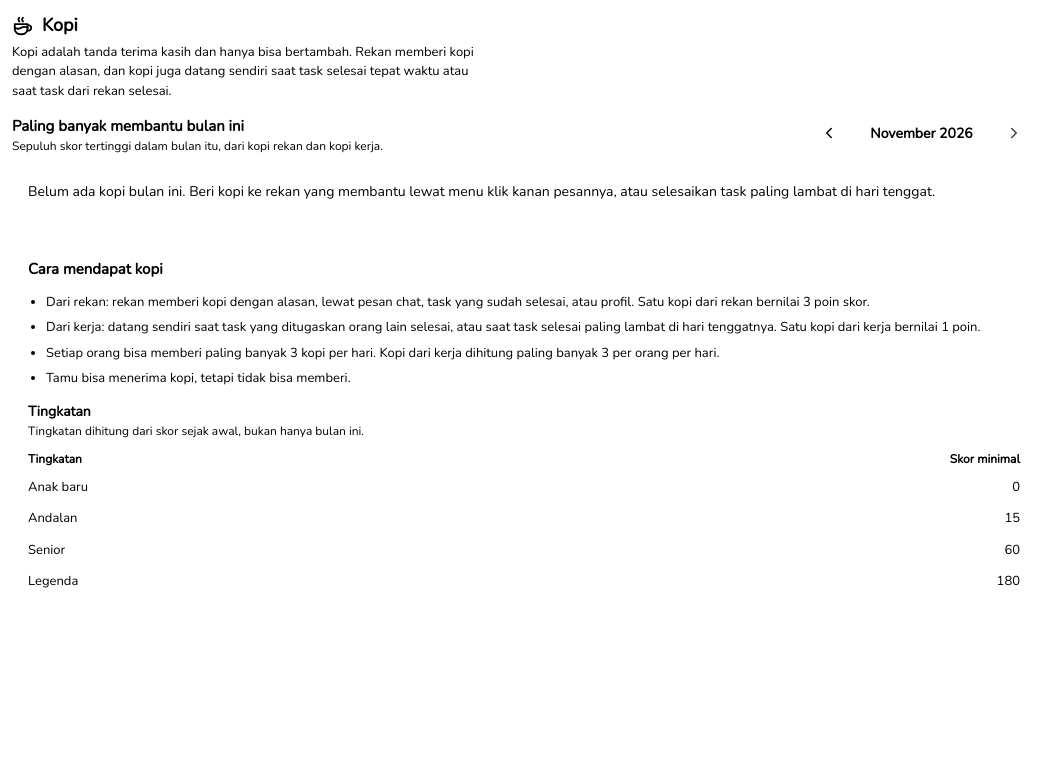
Test: Kopi: papan bulanan › kosong bulan lalu: menyebut bulannya
Check: the text "Belum ada kopi bulan ini." is shown, box [28,182,935,201]
Click the button named "Bulan sebelumnya" at (829, 133), box [807,111,851,155]
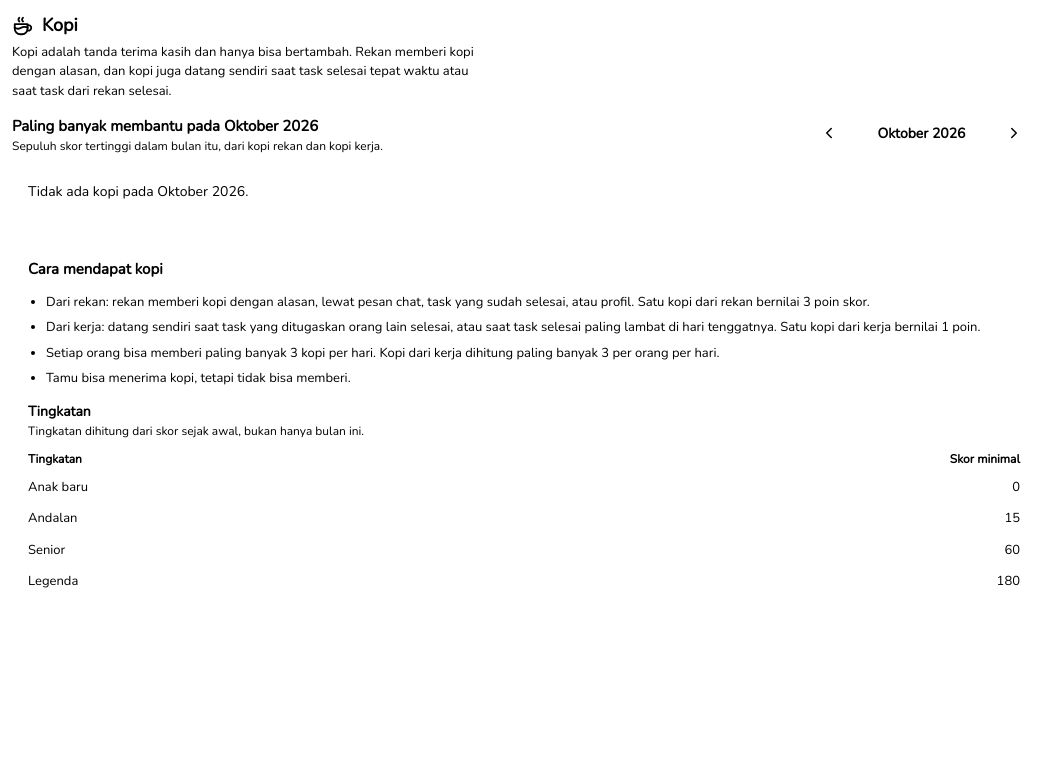
Check: the text "Tidak ada kopi pada Oktober 2026." is shown, box [28,182,248,201]
